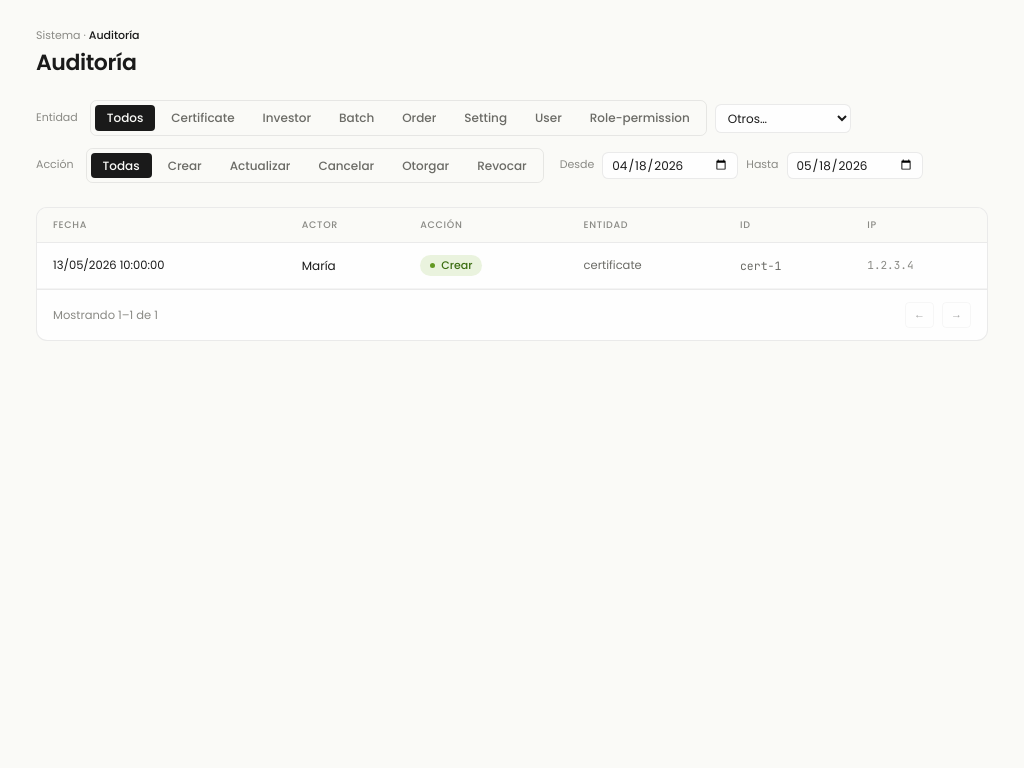
<AuditPage /> › clicking a row opens the detail modal
The width and height of the screenshot is (1024, 768).
Click the text "María": [319, 265] box left=286, top=242, right=404, bottom=289
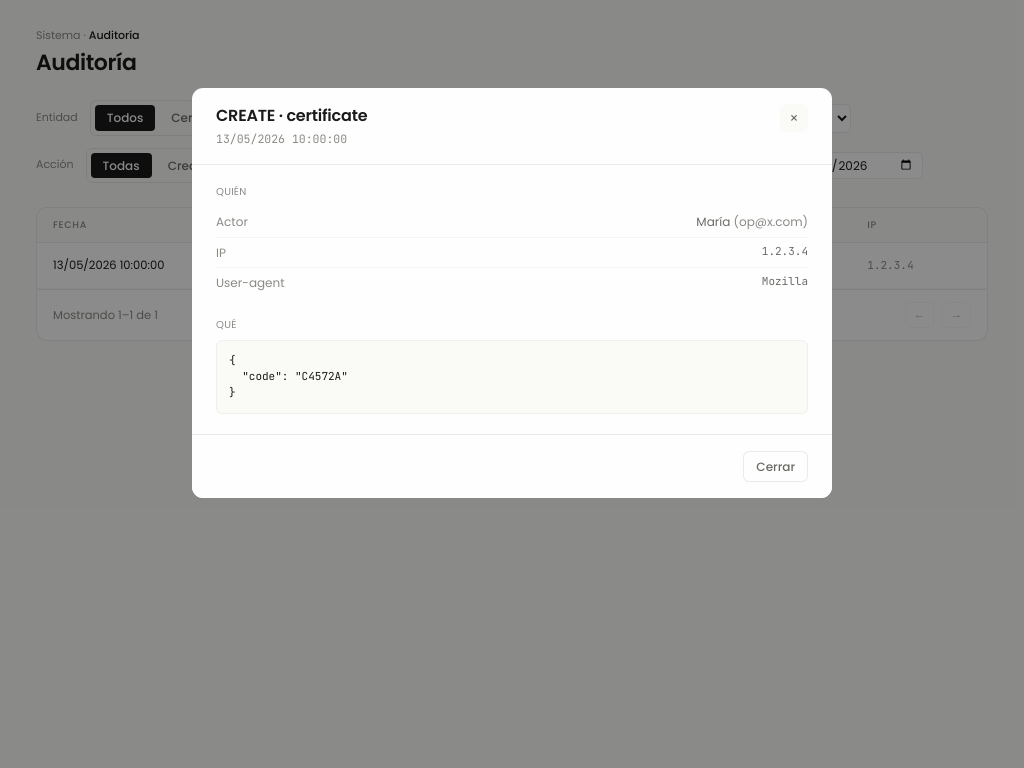
Expected: the heading "CREATE · certificate" is shown, left=216, top=104, right=367, bottom=127
Expected: the text "{ \"code\": \"C4572A\" }" is shown, left=216, top=340, right=808, bottom=414
